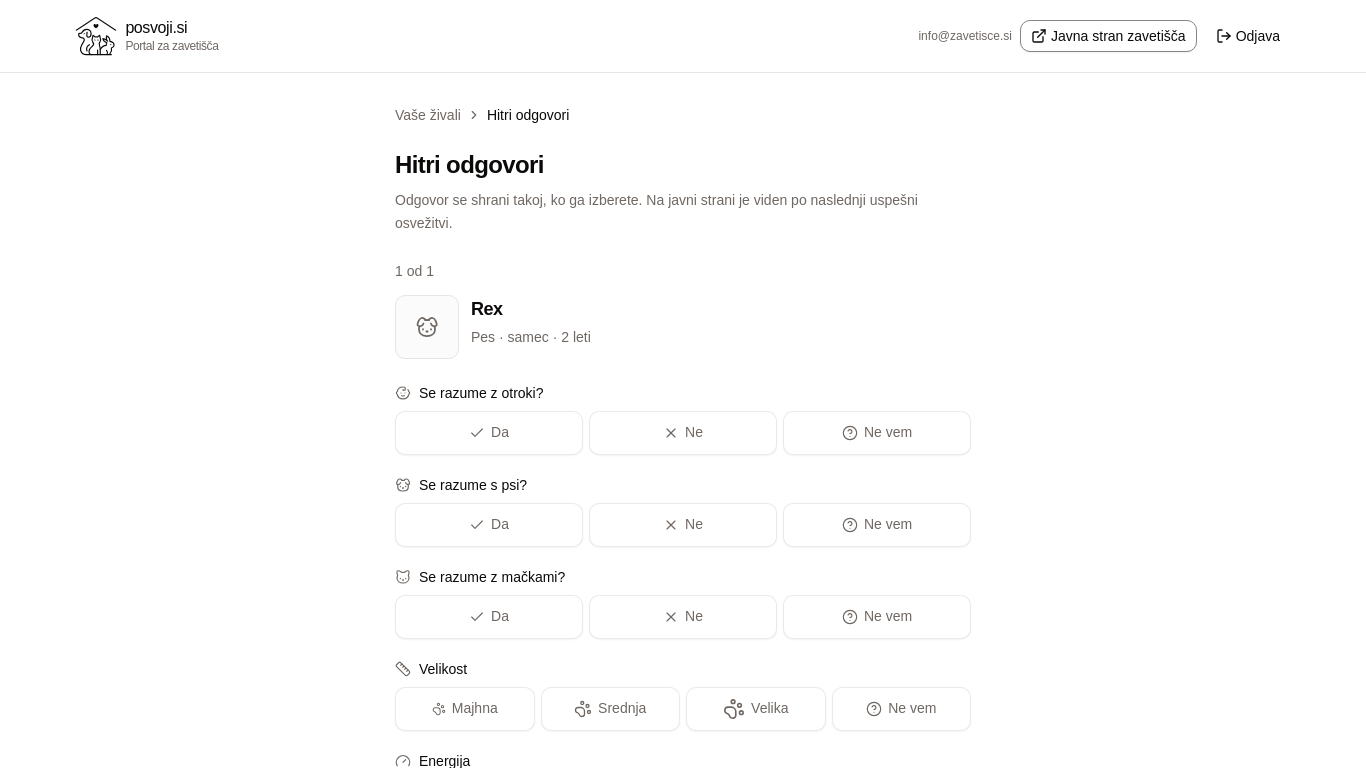
Test: a tap › sends nothing for Ne vem on an empty household question
This screenshot has width=1366, height=768.
Expected: the heading "Rex" is shown, [471,298,503,318]
Click the radio button labelled "Ne vem" below "Se razume s psi?": (877, 524) [783,502,971,546]
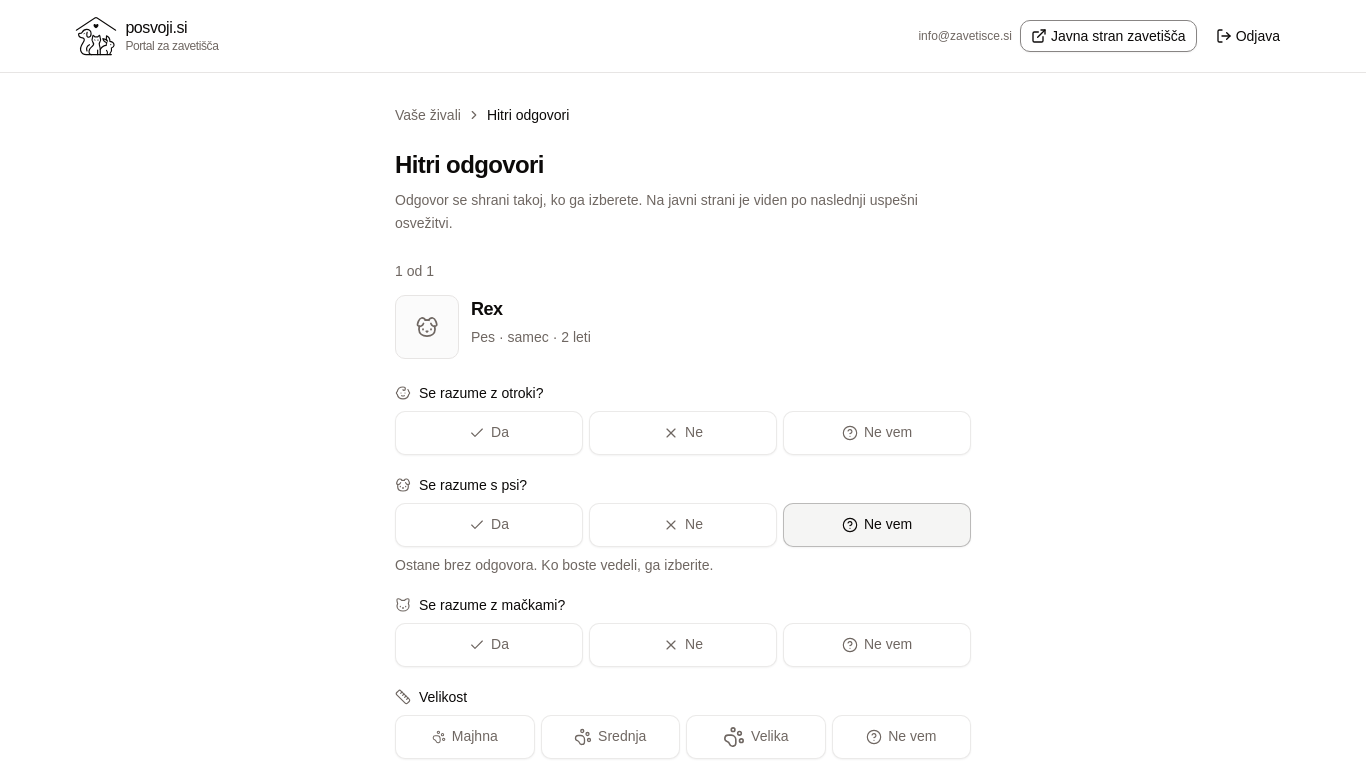
Expected: the text "Ostane brez odgovora. Ko boste vedeli, ga izberite." is shown, [395,556,713,572]
